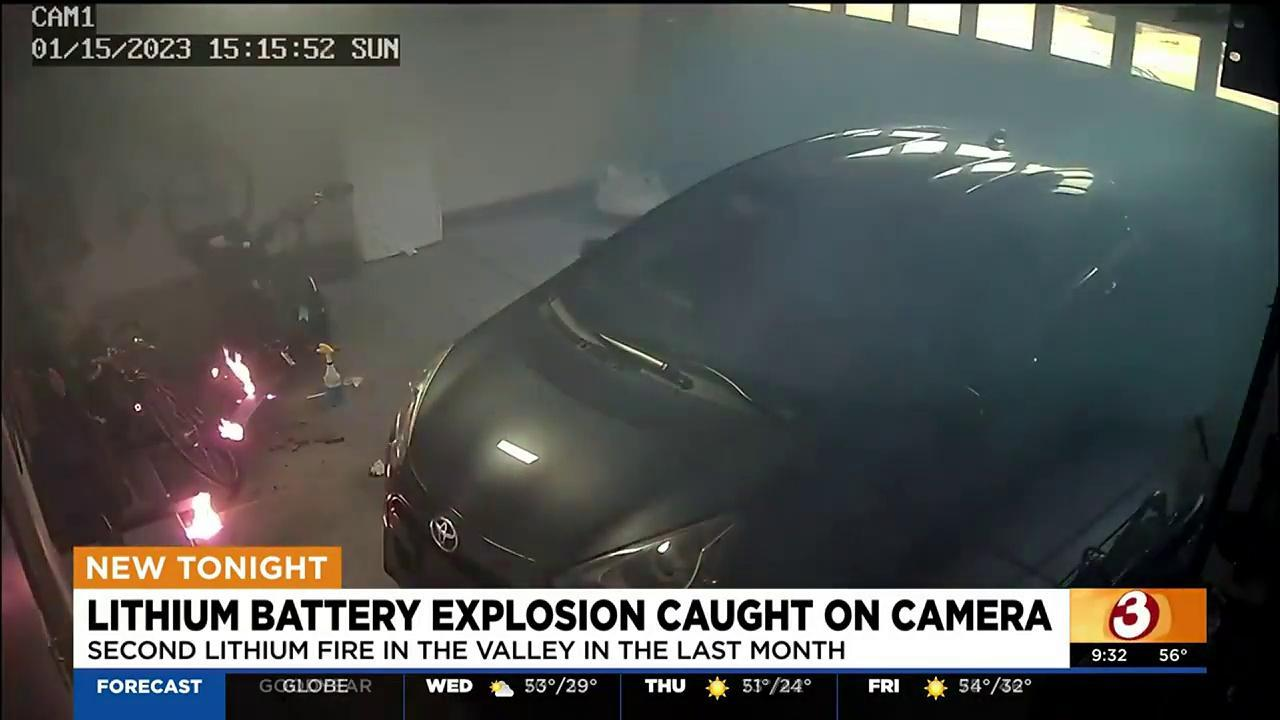fire: (128, 300, 371, 547)
